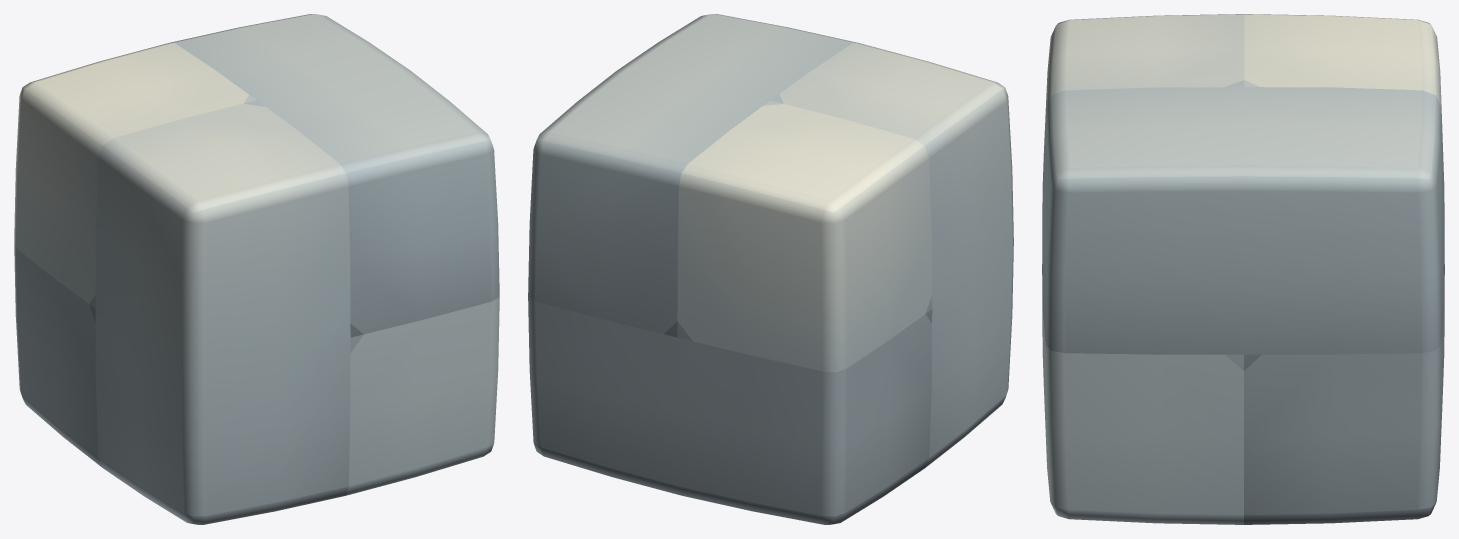
The model's file is Quartz_2x2.fbx.
The picture shows the model from 3 angles, left to right: view 1: azimuth 30°, elevation 25°; view 2: azimuth 150°, elevation 25°; view 3: azimuth 270°, elevation 25°; orthographic projection. The views are drawn at different scales.
Parts seen in each view (by area): view 1: Quartz_2x2_LOD0; view 2: Quartz_2x2_LOD0; view 3: Quartz_2x2_LOD0.
Boxes of the visible parts, left/top/right/bottom form: Quartz_2x2_LOD0: left=14, top=14, right=499, bottom=524; Quartz_2x2_LOD0: left=528, top=14, right=1013, bottom=524; Quartz_2x2_LOD0: left=1042, top=14, right=1444, bottom=524.
Size of what is drawn, in the model's own units: 1.09 by 1.09 by 1.09.
